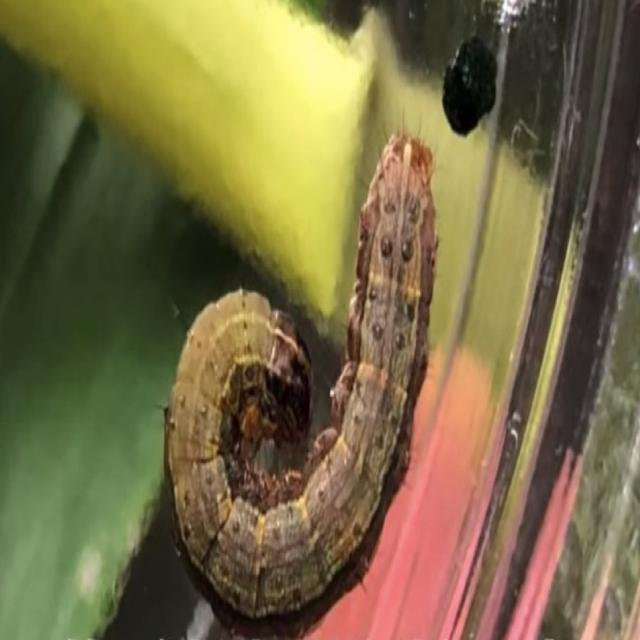Fall-armyworm: (165, 130, 442, 640)
